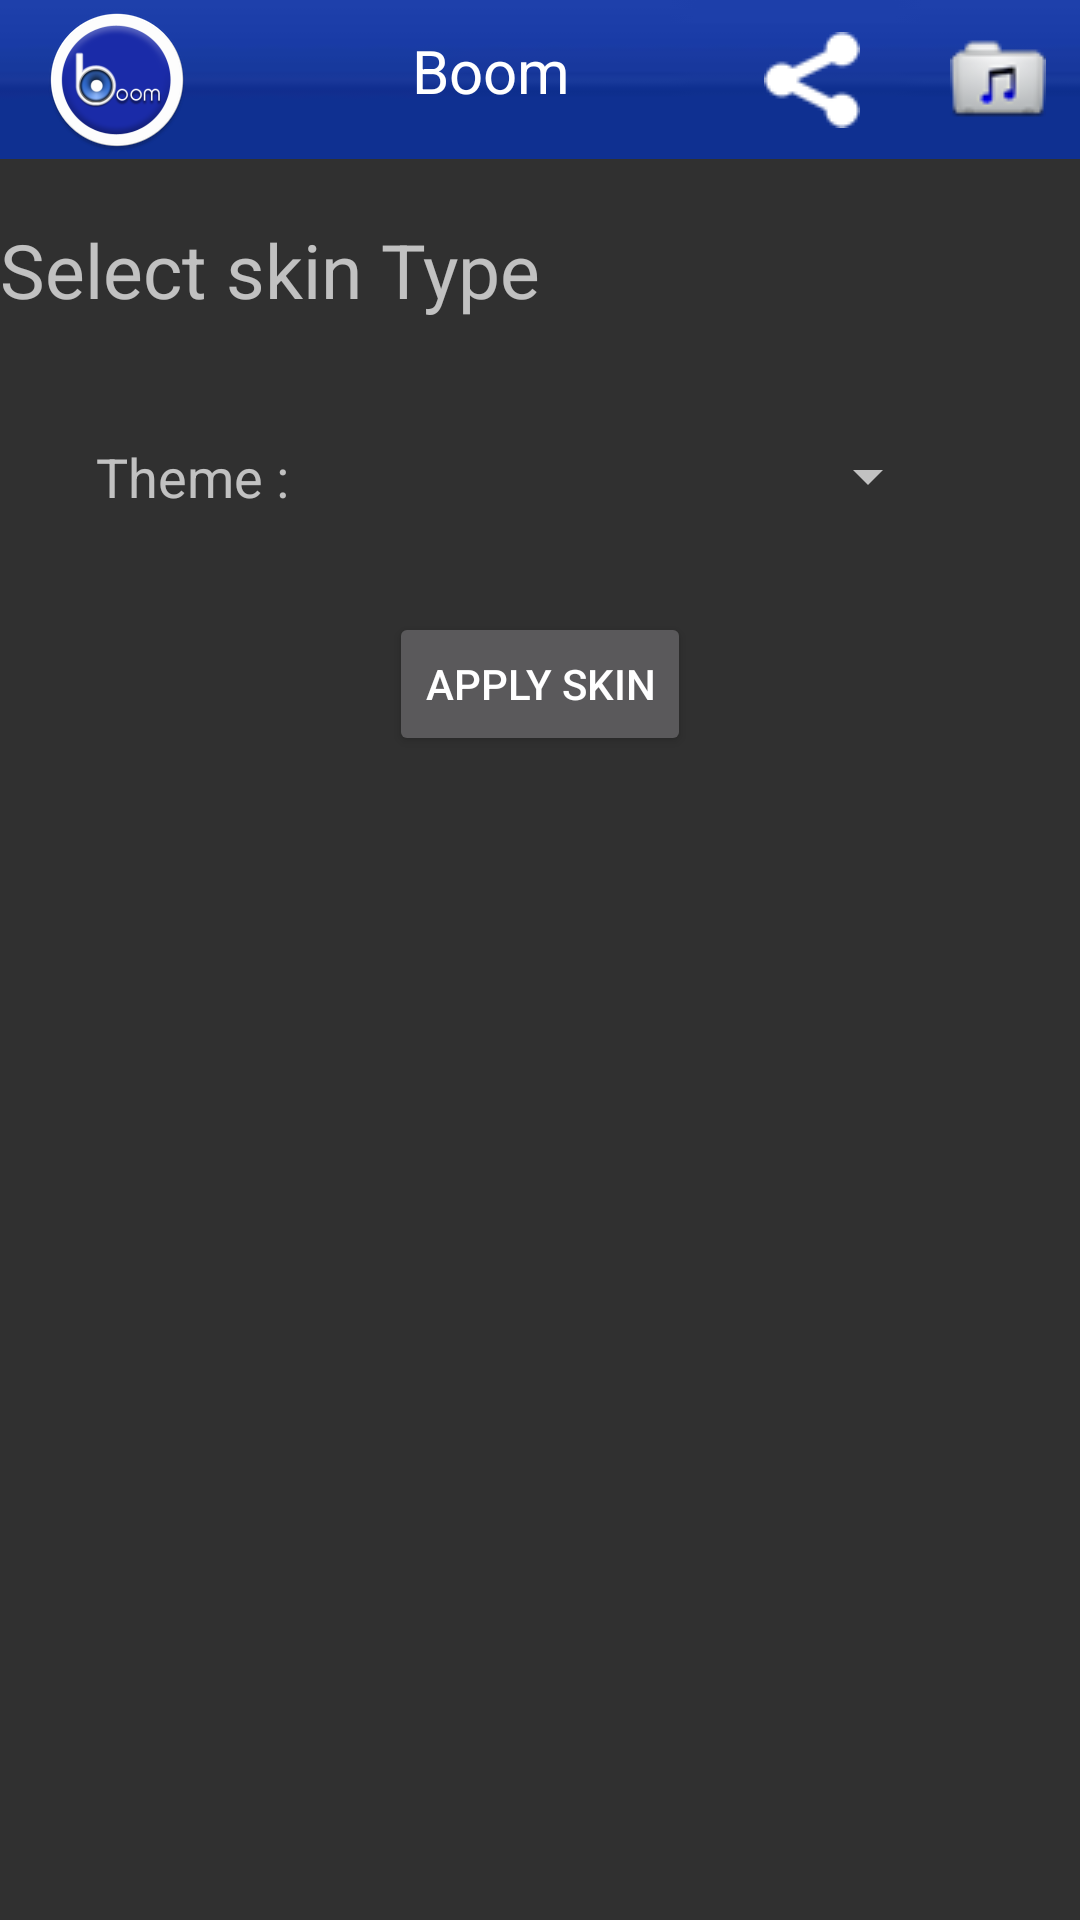

Icons on this 1080×1920 Android screen, each with its box as (x1, y1, x2, y2):
folder: (950, 40, 1046, 116)
share: (764, 0, 860, 128)
